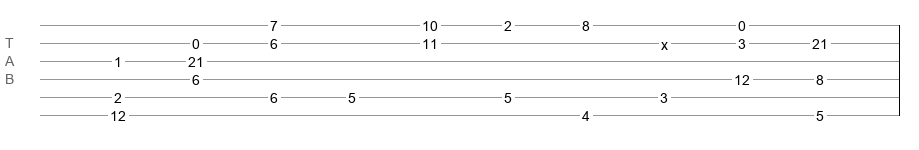0: (192, 36, 200, 46), (738, 18, 746, 28)
1: (114, 54, 122, 64)
10: (422, 18, 438, 28)
11: (422, 36, 438, 46)
12: (110, 108, 126, 118), (734, 72, 750, 82)
2: (114, 90, 122, 100), (504, 18, 512, 28)
21: (188, 54, 204, 64), (812, 36, 828, 46)
3: (660, 90, 668, 100), (738, 36, 746, 46)
4: (582, 108, 590, 118)
5: (348, 90, 356, 100), (504, 90, 512, 100), (816, 108, 824, 118)
6: (192, 72, 200, 82), (270, 36, 278, 46), (270, 90, 278, 100)
7: (270, 18, 278, 28)
8: (582, 18, 590, 28), (816, 72, 824, 82)
x: (661, 37, 668, 45)
